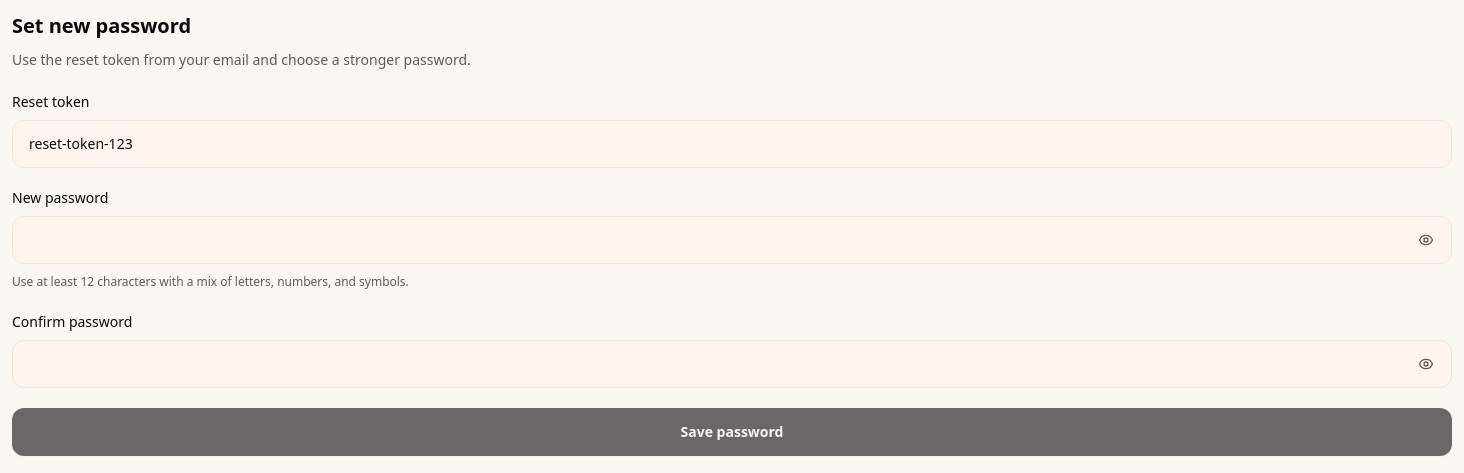
Test: ResetPasswordForm › keeps the submit button disabled until token and a long password are set
Expected: the button "Save password" is disabled, [12,408,1452,456]
In the password field labelled "New password": (732, 240) [12,216,1452,264], type "short"
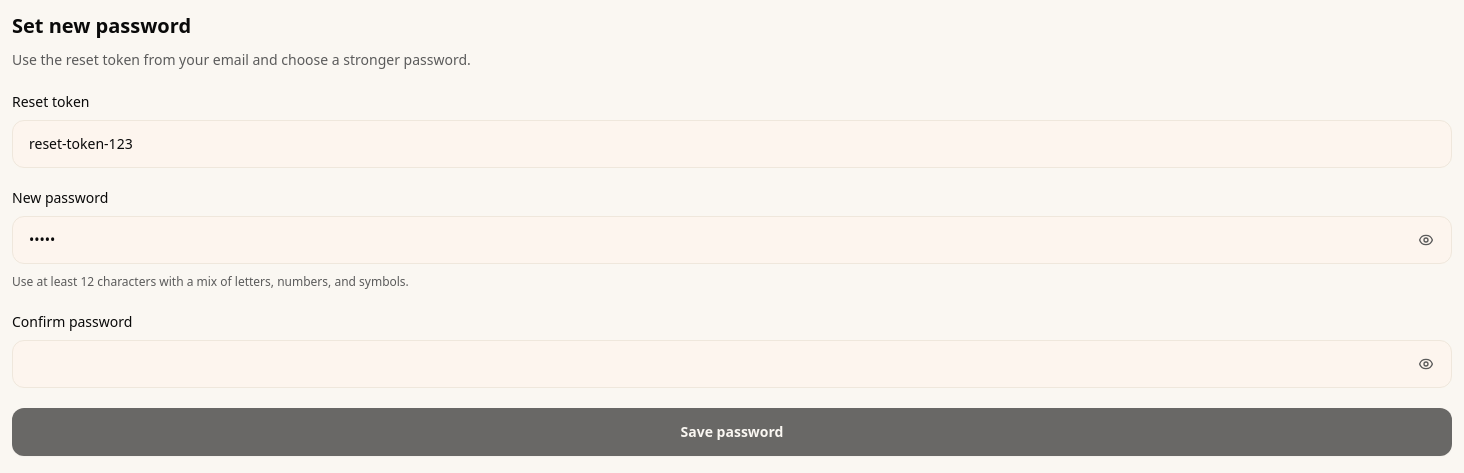
Expected: the button "Save password" is disabled, [12,408,1452,456]
In the password field labelled "New password": (732, 240) [12,216,1452,264], type "StrongerPass!234"
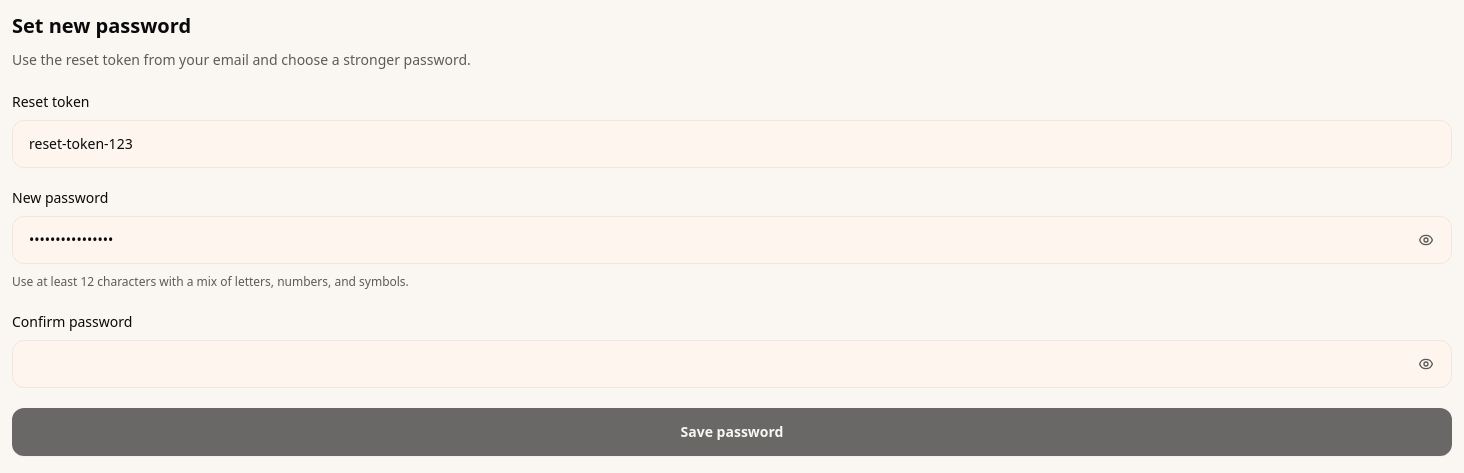
Expected: the button "Save password" is disabled, [12,408,1452,456]
In the password field labelled "Confirm password": (732, 364) [12,340,1452,388], type "StrongerPass!234"
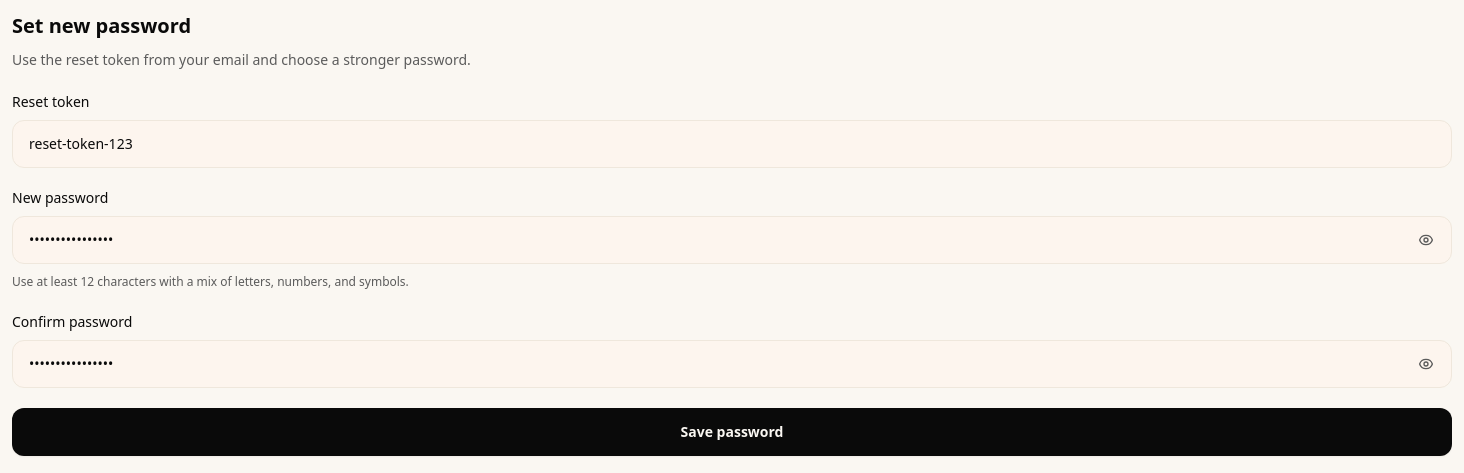
Expected: the button "Save password" is enabled, [12,408,1452,456]
